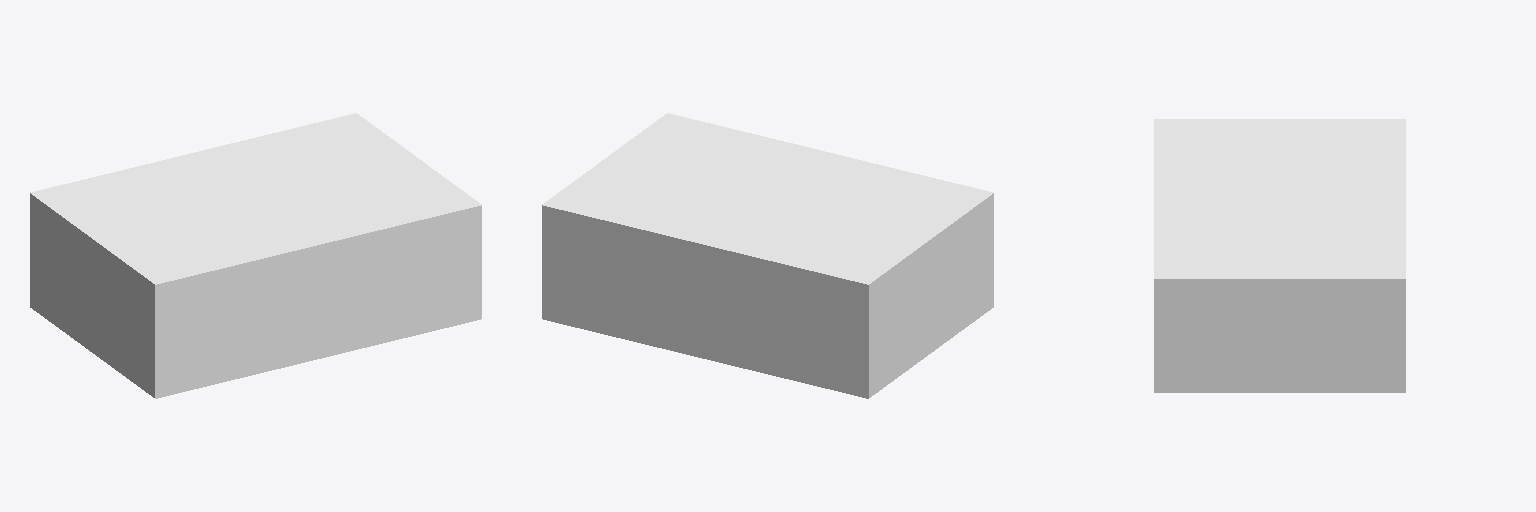
Rendered from voxel_money.obj.
3 views of the same model, side by side, from view 1: azimuth 30°, elevation 25°; view 2: azimuth 150°, elevation 25°; view 3: azimuth 270°, elevation 25° (orthographic).
Visible parts, largest first — view 1: object 1; view 2: object 1; view 3: object 1.
Part boxes in pixels (x1,y1,x2,y2): object 1: (30, 113, 481, 398); object 1: (542, 113, 993, 398); object 1: (1154, 119, 1405, 392).
Size of the model in its own units: 0.9 by 0.3 by 0.6.